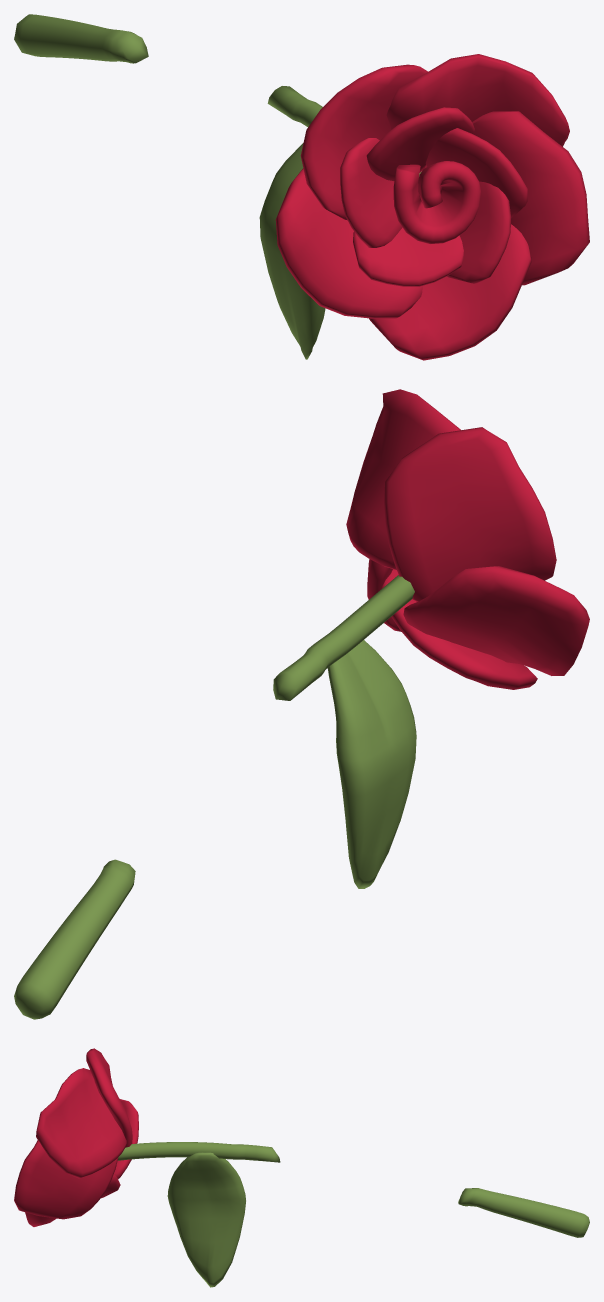
The model's file is Rose.fbx.
3 renders of one model, top to bottom at view 1: azimuth 30°, elevation 25°; view 2: azimuth 150°, elevation 25°; view 3: azimuth 270°, elevation 25°, orthographic. The views are drawn at different scales.
Visible parts, largest first — view 1: Rose; view 2: Rose; view 3: Rose.
Boxes of the visible parts, left/top/right/bottom form: Rose: left=14, top=14, right=589, bottom=360; Rose: left=14, top=389, right=589, bottom=1019; Rose: left=14, top=1048, right=589, bottom=1287.
Bounding box in the file's own units: 12.21 × 17.3 × 38.64.
